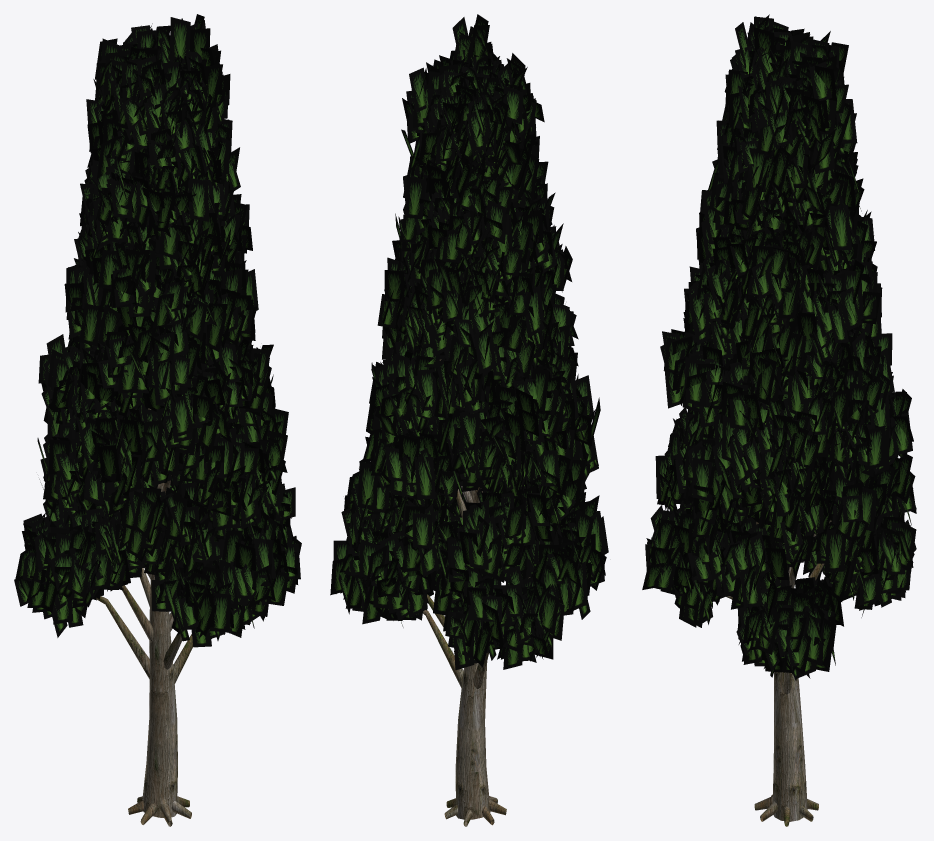
Rendered from tour-cedar.glb.
3 renders of one model, left to right at view 1: azimuth 30°, elevation 25°; view 2: azimuth 150°, elevation 25°; view 3: azimuth 270°, elevation 25°, orthographic. The views are drawn at different scales.
Visible parts, largest first — view 1: white-pine; view 2: white-pine; view 3: white-pine.
Part boxes in pixels (x1,y1,x2,y2): white-pine: (14, 14, 301, 826); white-pine: (330, 14, 608, 826); white-pine: (642, 14, 916, 826).
Size of the model in its own units: 4.56 by 13.84 by 4.35.
2 materials, 2 textured.
